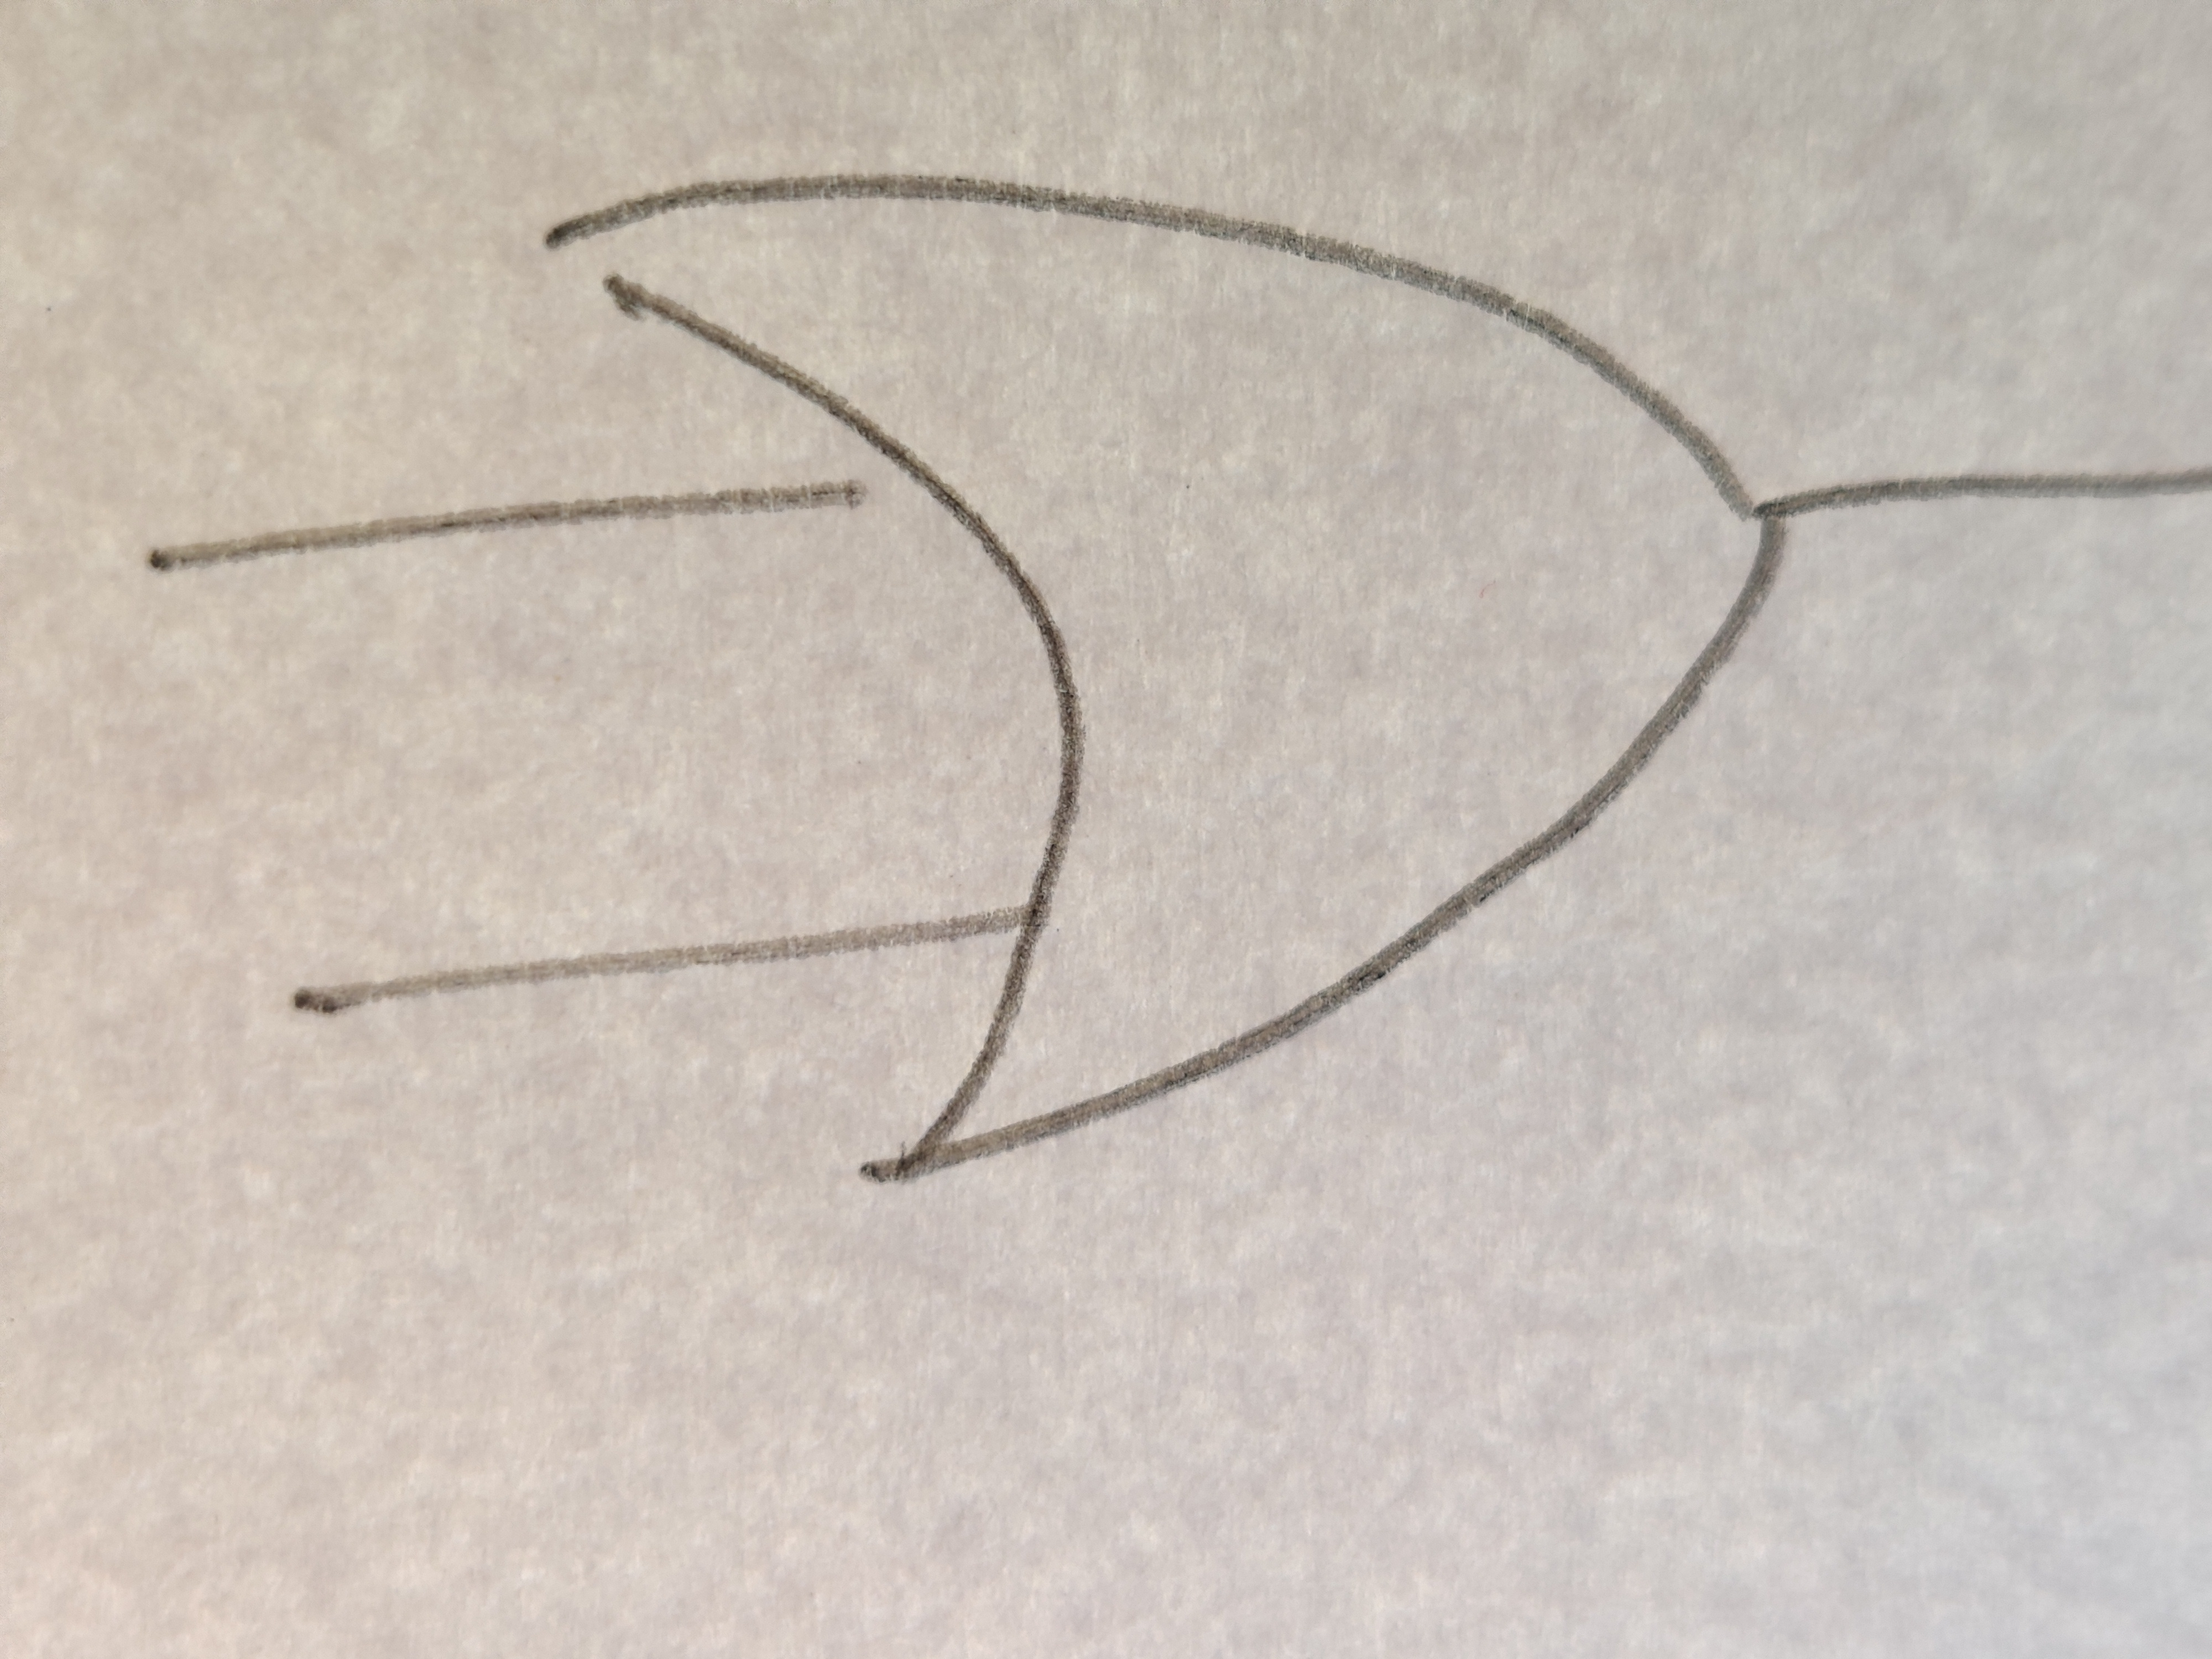or: (543, 181, 1787, 1185)
